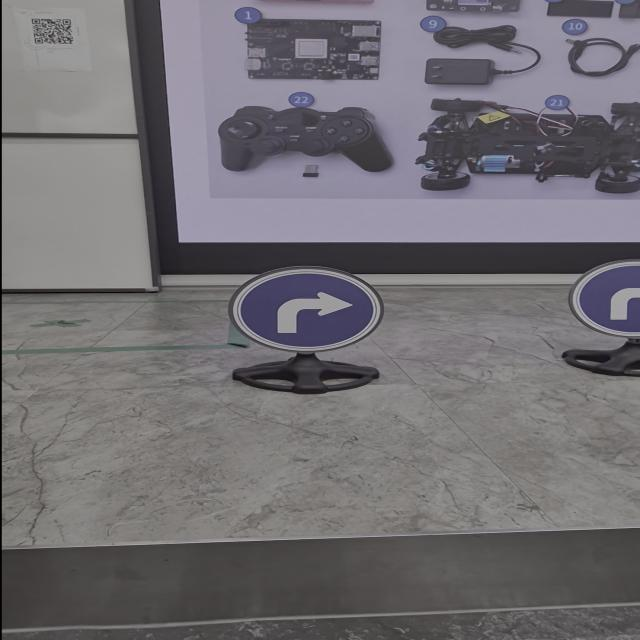right_dierection: (210, 254, 394, 363)
